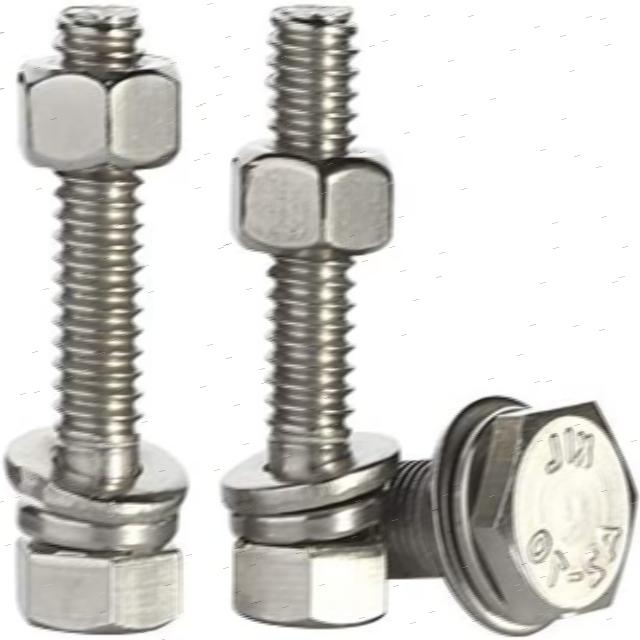Bolt: (14, 5, 184, 635), (230, 0, 390, 630), (374, 399, 639, 629)
Nut: (13, 54, 185, 176), (228, 139, 396, 262)
